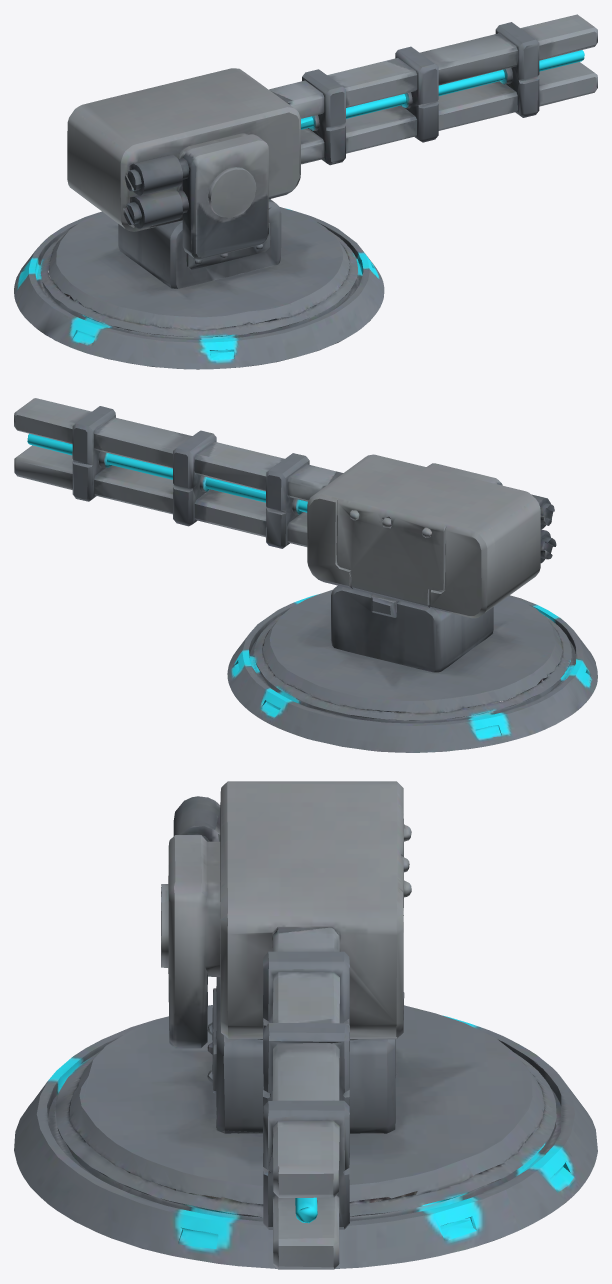
Rendered from town-railgun-light.glb.
3 views of the same model, one above another, from view 1: azimuth 30°, elevation 25°; view 2: azimuth 150°, elevation 25°; view 3: azimuth 270°, elevation 25° (orthographic). The views are drawn at different scales.
Visible parts, largest first — view 1: town-railgun-light; view 2: town-railgun-light; view 3: town-railgun-light.
Part boxes in pixels (bbox=[...]): town-railgun-light: bbox=[14, 14, 597, 369]; town-railgun-light: bbox=[14, 398, 597, 752]; town-railgun-light: bbox=[14, 781, 597, 1269].
Size of the model in its own units: 4.81 by 1.56 by 2.79.
1 material, 1 textured.
